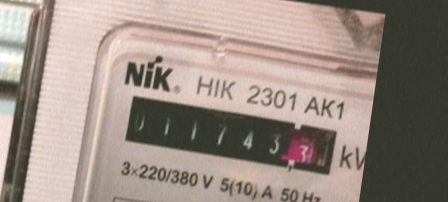0: (130, 104, 147, 133)
1: (156, 108, 174, 137), (184, 113, 201, 142)
3: (264, 128, 281, 157), (292, 142, 310, 165)
4: (238, 125, 255, 152)
7: (211, 119, 228, 146)
screen: (114, 88, 346, 183)
